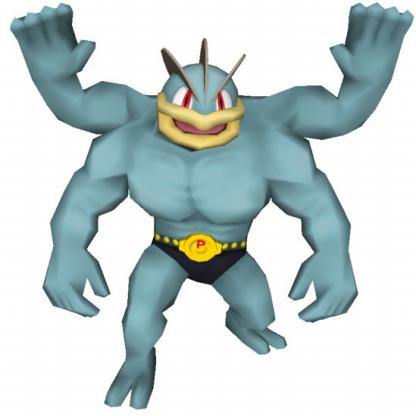Machamp: (10, 1, 416, 404)
